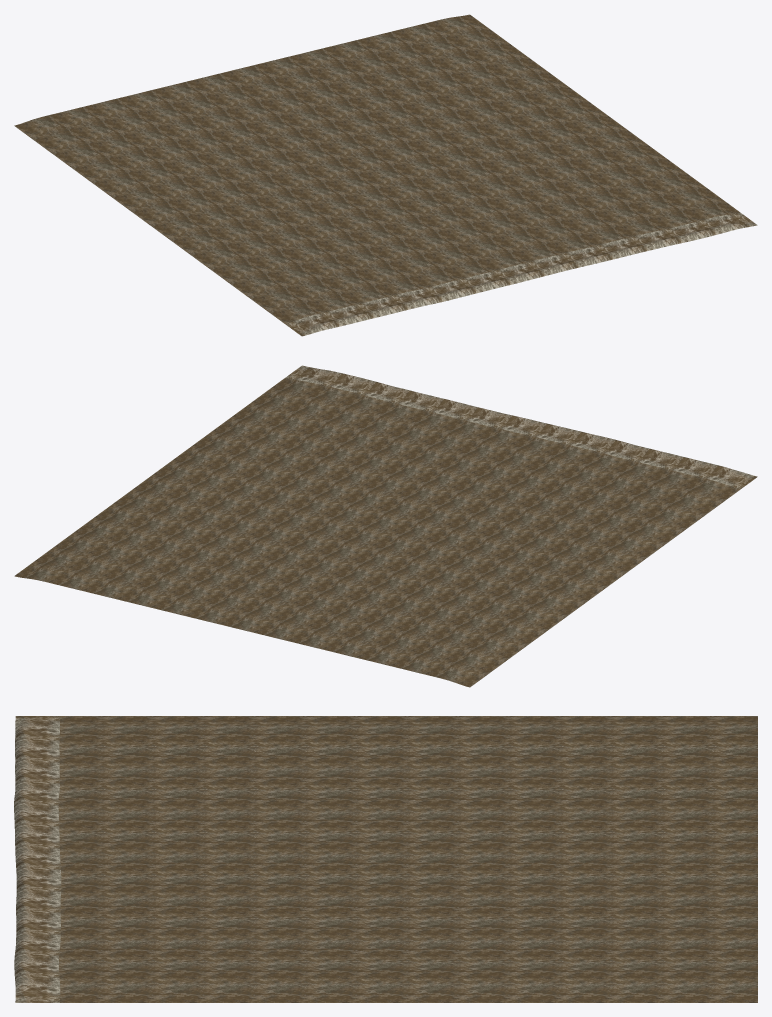
Rendered from surge.glb.
3 renders of one model, top to bottom at view 1: azimuth 30°, elevation 25°; view 2: azimuth 150°, elevation 25°; view 3: azimuth 270°, elevation 25°, orthographic. The views are drawn at different scales.
Bounding box in the file's own units: 640 × 6 × 702.
2 materials, 2 textured.
